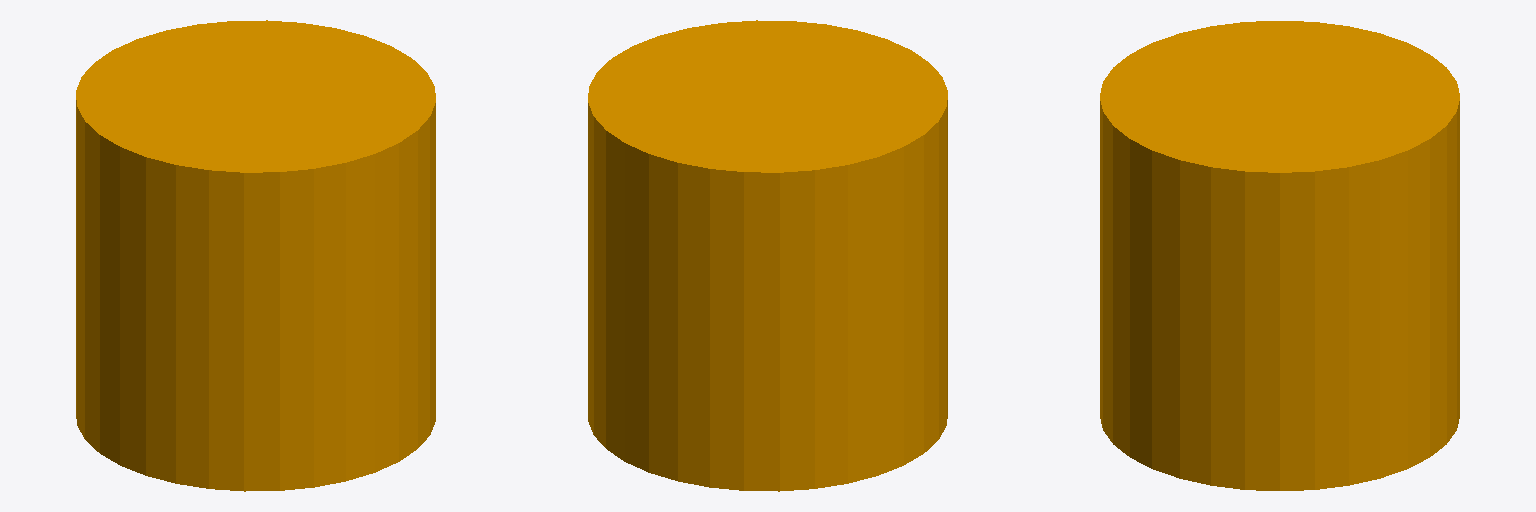
URDF robot description (cylinder):
<?xml version="1.0" ?>
<robot name="cylinder">
  <link name="_name">
  
    <visual>
      <origin rpy="0 0 0" xyz="0 0 0" />
      <geometry>
        <mesh filename="cylinder.obj" scale="1 1 1" />
      </geometry>
    </visual>
    
    <collision>
      <origin rpy="0 0 0" xyz="0 0 0" />
      <geometry>
        <mesh filename="cylinder.obj" scale="1 1 1" />
      </geometry>
    </collision>
    
    <inertial>
      <origin rpy="0 0 0" xyz="0.0 0.0 0.0" />
      <mass value="0.094" />
      <inertia ixx="1.0" ixy="0.0" ixz="0.0" iyy="1.0" iyz="0.0" izz="1.0" />
    </inertial>
    
  </link>
</robot>

--- Facts derived from the render (not from the file) ---
The picture shows the robot from 3 angles, left to right: view 1: azimuth 30°, elevation 25°; view 2: azimuth 150°, elevation 25°; view 3: azimuth 270°, elevation 25°; orthographic projection.
Model cylinder with 1 links and 0 joints (none), rooted at _name, posed every joint at zero.
Visible links, largest first — view 1: _name; view 2: _name; view 3: _name.
Link boxes in pixels (x1,y1,x2,y2): _name: [76, 20, 435, 491]; _name: [588, 20, 947, 491]; _name: [1100, 21, 1459, 490].
Size in the robot's own frame: 0.0616 by 0.0616 by 0.06 metres.
1 mesh visuals loaded from 1 distinct referenced files (1 OBJ).
